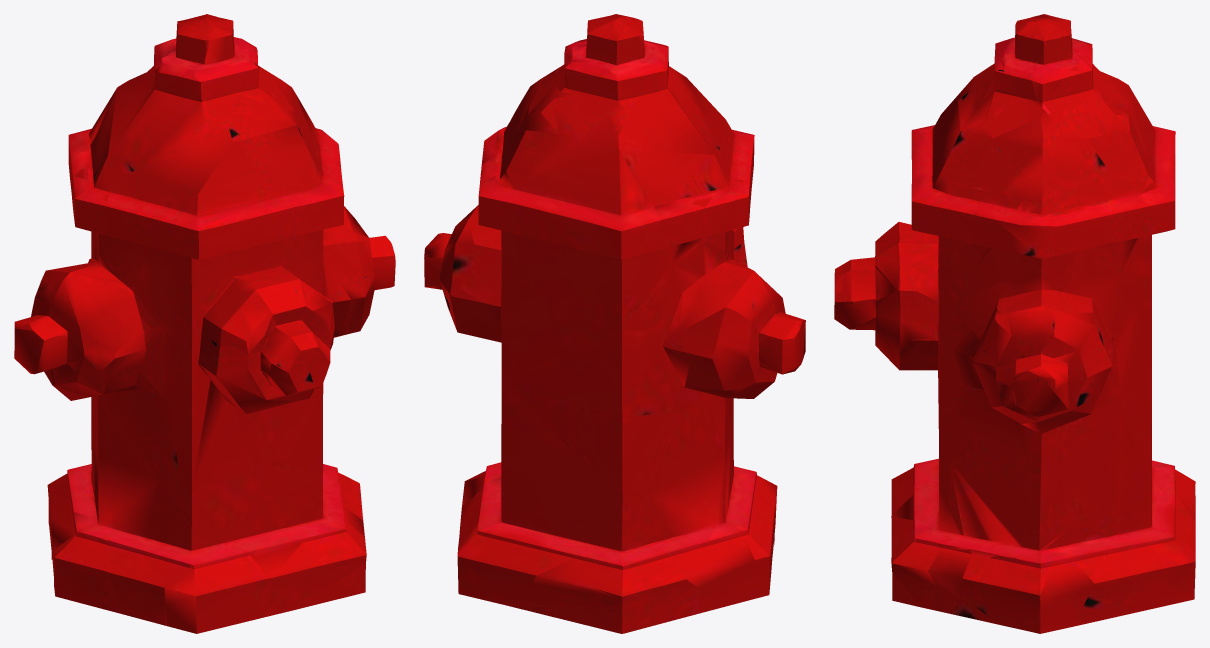
The model's file is street-hydrant.glb.
The picture shows the model from 3 angles, left to right: view 1: azimuth 30°, elevation 25°; view 2: azimuth 150°, elevation 25°; view 3: azimuth 270°, elevation 25°; orthographic projection.
Parts seen in each view (by area): view 1: output_unwrapped; view 2: output_unwrapped; view 3: output_unwrapped.
Part boxes in pixels (x1,y1,x2,y2): output_unwrapped: (14, 14, 395, 633); output_unwrapped: (424, 14, 805, 633); output_unwrapped: (834, 14, 1195, 633).
Bounding box in the file's own units: 1.37 × 1.9 × 1.16.
1 material, 1 textured.
